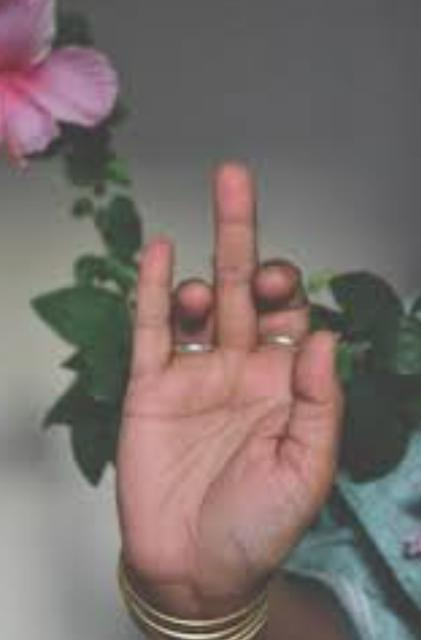shuktund: (111, 167, 346, 640)
